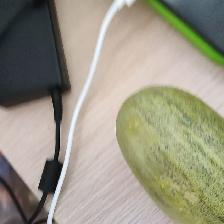gua: (133, 105, 210, 198)
